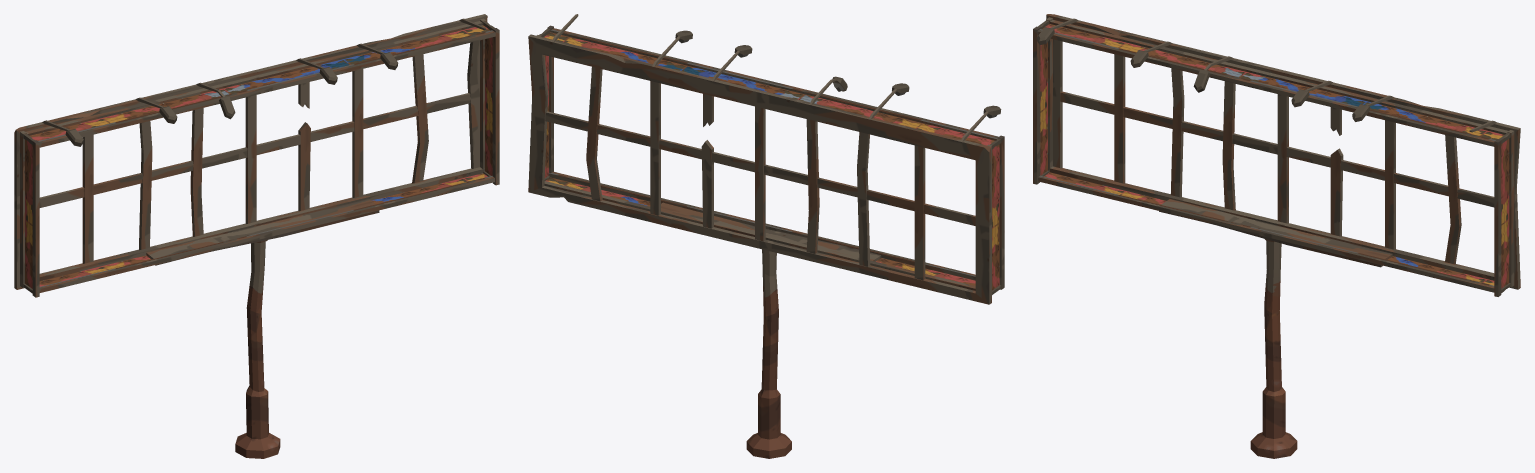
The model's file is SM_Prop_Sign_Billboard_Stand_02.obj.
3 views of the same model, side by side, from view 1: azimuth 30°, elevation 25°; view 2: azimuth 150°, elevation 25°; view 3: azimuth 330°, elevation 25° (orthographic). The views are drawn at different scales.
Parts seen in each view (by area): view 1: SM_Prop_Sign_Billboard_Stand_02_0, SM_Prop_Sign_Billboard_Stand_02_1; view 2: SM_Prop_Sign_Billboard_Stand_02_0, SM_Prop_Sign_Billboard_Stand_02_1; view 3: SM_Prop_Sign_Billboard_Stand_02_0, SM_Prop_Sign_Billboard_Stand_02_1.
Part boxes in pixels (x1=…): SM_Prop_Sign_Billboard_Stand_02_0: x1=14, y1=14, x2=499, y2=458; SM_Prop_Sign_Billboard_Stand_02_1: x1=25, y1=25, x2=492, y2=288; SM_Prop_Sign_Billboard_Stand_02_0: x1=528, y1=14, x2=1004, y2=458; SM_Prop_Sign_Billboard_Stand_02_1: x1=543, y1=32, x2=999, y2=290; SM_Prop_Sign_Billboard_Stand_02_0: x1=1033, y1=14, x2=1520, y2=458; SM_Prop_Sign_Billboard_Stand_02_1: x1=1040, y1=24, x2=1509, y2=288.
Size of the model in its own units: 9.04 by 7.05 by 1.33.
2 materials, 2 textured.
